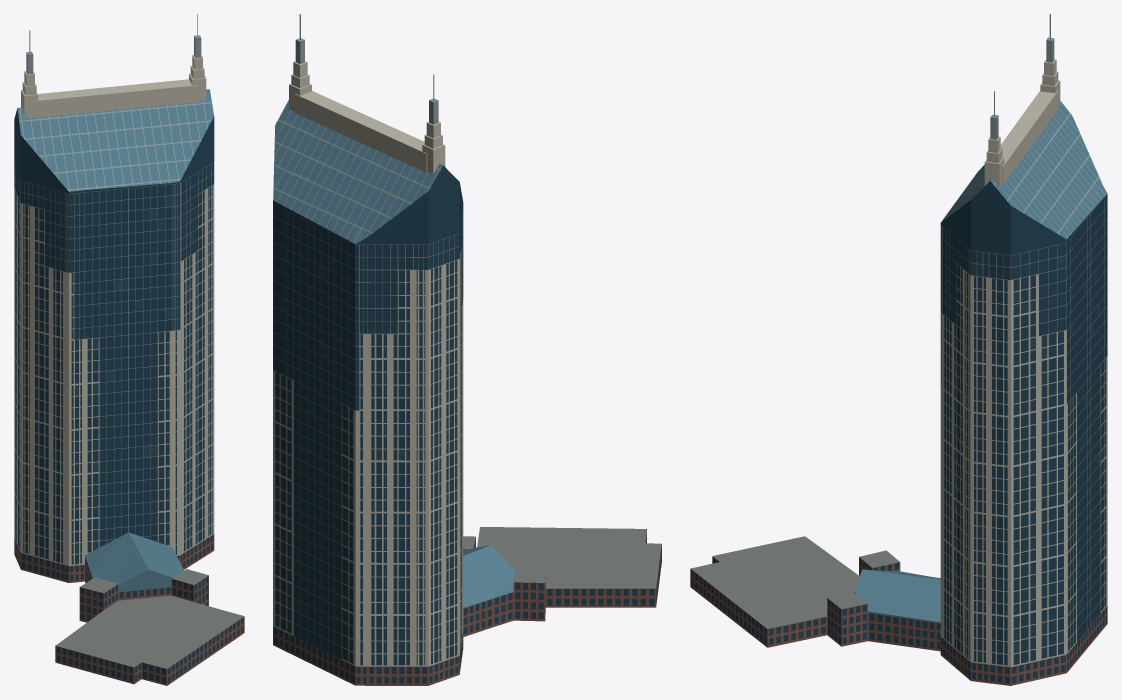
The model's file is att-building-nashville-near.glb.
The picture shows the model from 3 angles, left to right: view 1: azimuth 30°, elevation 25°; view 2: azimuth 150°, elevation 25°; view 3: azimuth 270°, elevation 25°; orthographic projection. The views are drawn at different scales.
Parts seen in each view (by area): view 1: att-building-nashville-0-glass, att-building-nashville-0-stone, att-building-nashville-0-crown, att-building-nashville-0-metal, att-building-nashville-0-roof, att-building-nashville-0-brick, att-building-nashville-0-glow; view 2: att-building-nashville-0-glass, att-building-nashville-0-stone, att-building-nashville-0-crown, att-building-nashville-0-metal, att-building-nashville-0-roof, att-building-nashville-0-brick, att-building-nashville-0-glow; view 3: att-building-nashville-0-glass, att-building-nashville-0-stone, att-building-nashville-0-crown, att-building-nashville-0-roof, att-building-nashville-0-metal, att-building-nashville-0-brick, att-building-nashville-0-glow.
Boxes of the visible parts, x1,y1,x2,y2 form: att-building-nashville-0-glass: (14, 108, 243, 683); att-building-nashville-0-stone: (14, 55, 214, 566); att-building-nashville-0-crown: (17, 89, 213, 591); att-building-nashville-0-metal: (14, 14, 214, 547); att-building-nashville-0-roof: (55, 569, 243, 668); att-building-nashville-0-brick: (14, 534, 244, 685); att-building-nashville-0-glow: (15, 183, 212, 557); att-building-nashville-0-glass: (273, 165, 661, 683); att-building-nashville-0-stone: (273, 61, 463, 666); att-building-nashville-0-crown: (273, 102, 514, 608); att-building-nashville-0-metal: (273, 14, 463, 659); att-building-nashville-0-roof: (463, 527, 661, 588); att-building-nashville-0-brick: (273, 529, 661, 685); att-building-nashville-0-glow: (275, 234, 463, 665); att-building-nashville-0-glass: (691, 181, 1107, 683); att-building-nashville-0-stone: (940, 59, 1107, 667); att-building-nashville-0-crown: (854, 101, 1107, 623); att-building-nashville-0-roof: (690, 536, 899, 628); att-building-nashville-0-metal: (940, 14, 1107, 639); att-building-nashville-0-brick: (690, 556, 1107, 685); att-building-nashville-0-glow: (941, 225, 1106, 662).
Size of the model in its own units: 90.09 by 188 by 121.
